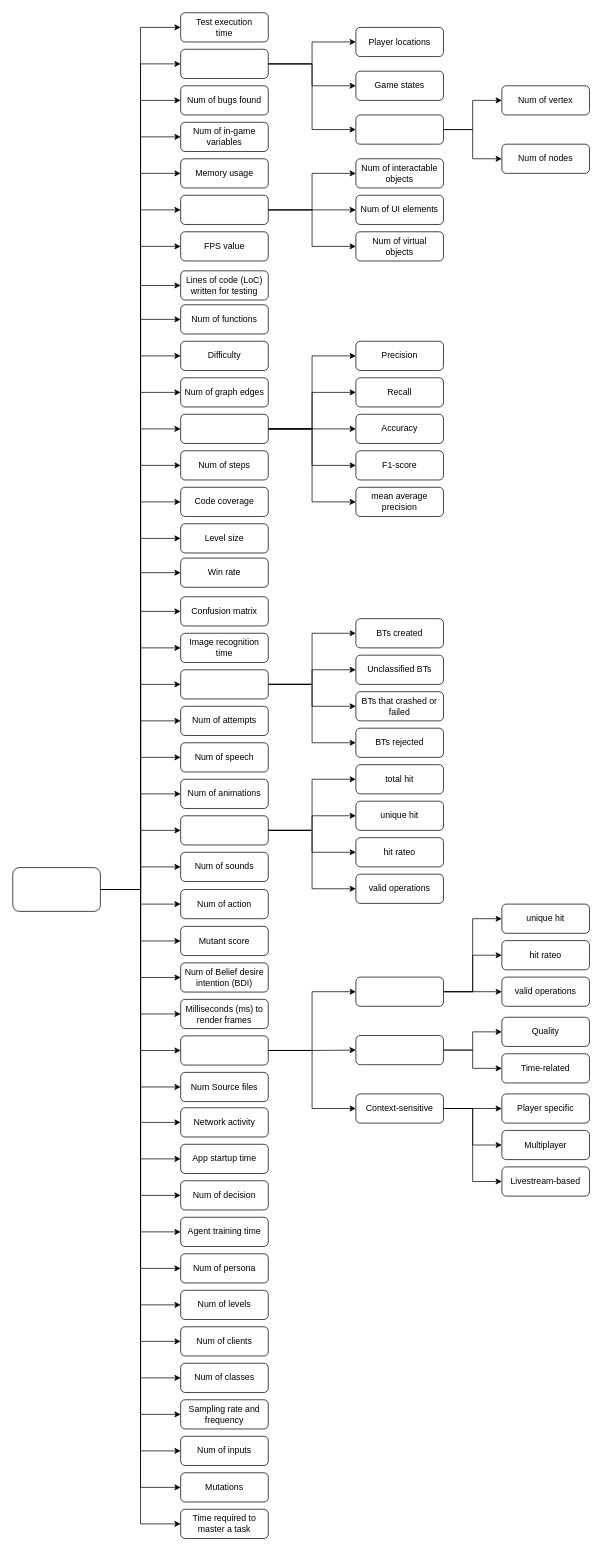
Image size: 602x1551. Some labels were removed from this diagram. Here are the shapes that lost their labels. From the top down, the box of each, then its label:
(180, 49, 268, 78): Num of player states
(355, 114, 443, 144): Graph coverage
(180, 195, 268, 224): Num of object
(180, 414, 268, 443): Num of image checked
(180, 669, 268, 699): Num of behaviour tree
(180, 815, 268, 845): Num of hit
(12, 867, 100, 911): Metrics
(355, 976, 443, 1006): Design
(180, 1035, 268, 1065): Num of observations
(355, 1035, 443, 1065): Product
